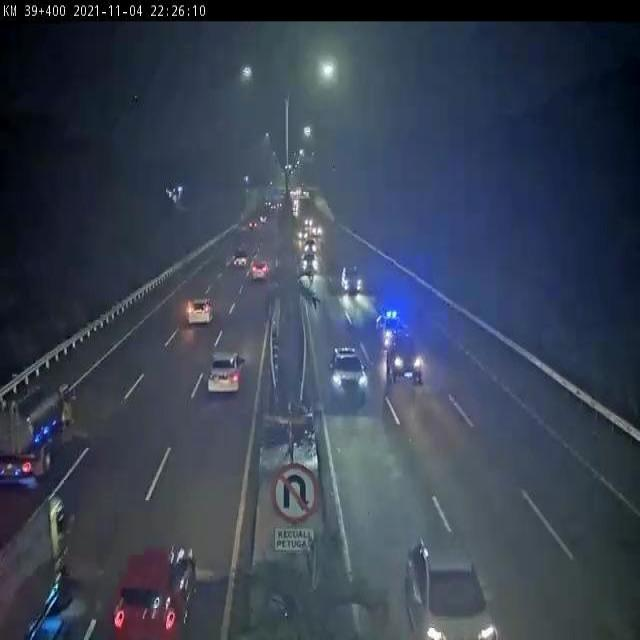Car: (406, 535, 496, 640), (112, 545, 200, 640), (327, 347, 369, 402), (388, 333, 424, 389), (206, 352, 248, 395), (376, 311, 406, 346), (187, 298, 214, 326), (340, 266, 364, 295), (251, 260, 271, 279), (302, 252, 318, 272), (302, 240, 318, 253)
Truck: (0, 486, 76, 637), (0, 379, 80, 484)
